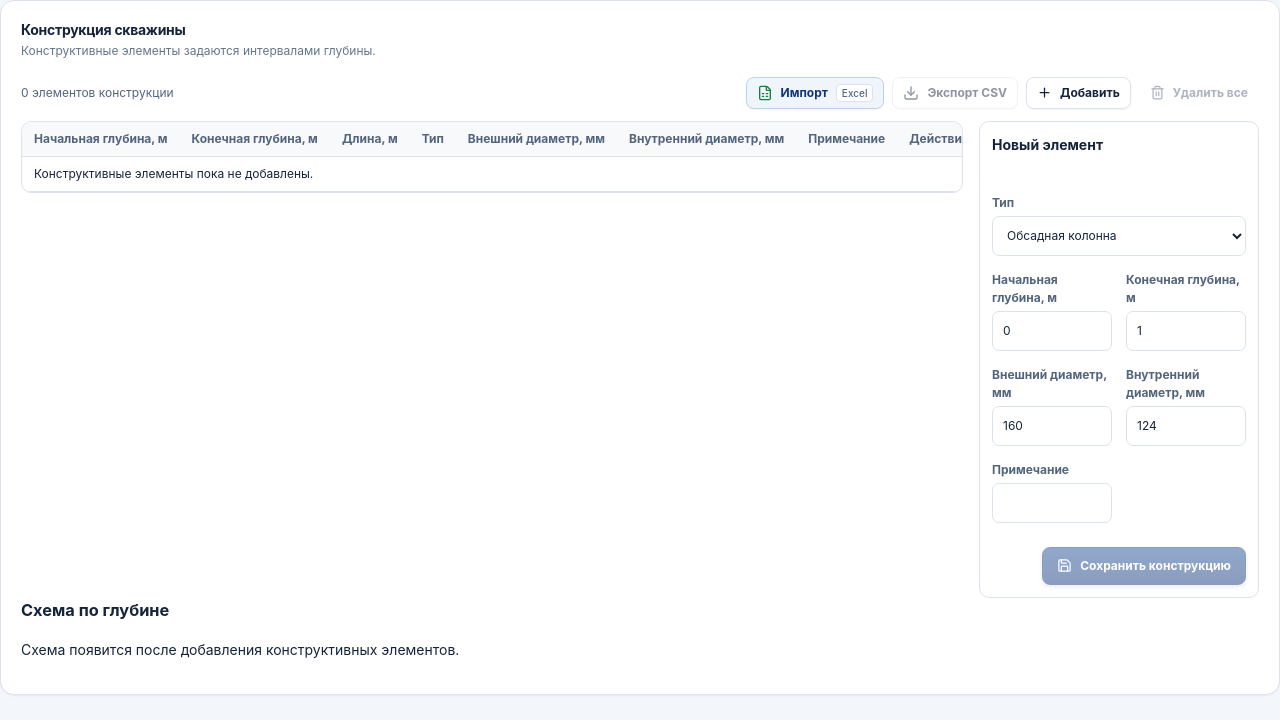
BGD well construction › blocks saving an invalid depth interval
This screenshot has width=1280, height=720.
Click the button "Добавить": (1078, 93) [1026,77,1131,109]
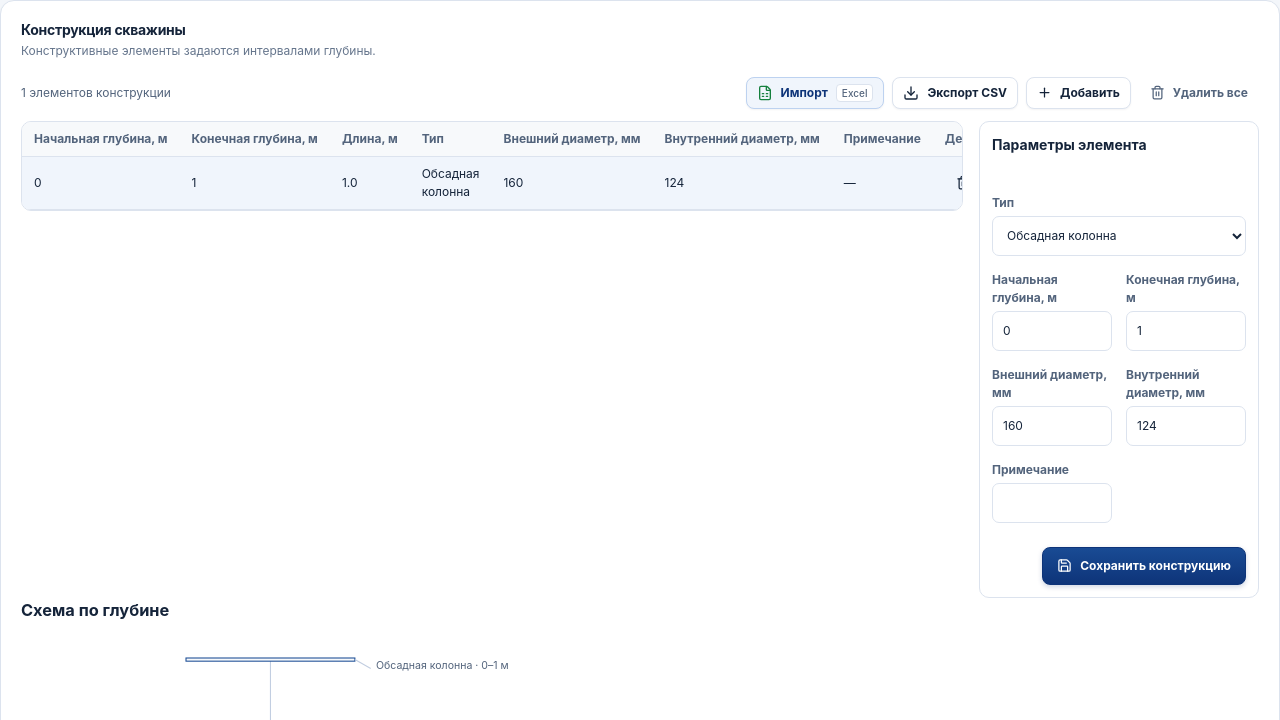
Replace the text in the number field labelled "Конечная глубина, м" with "0": (1186, 331) [1126,311,1246,351]
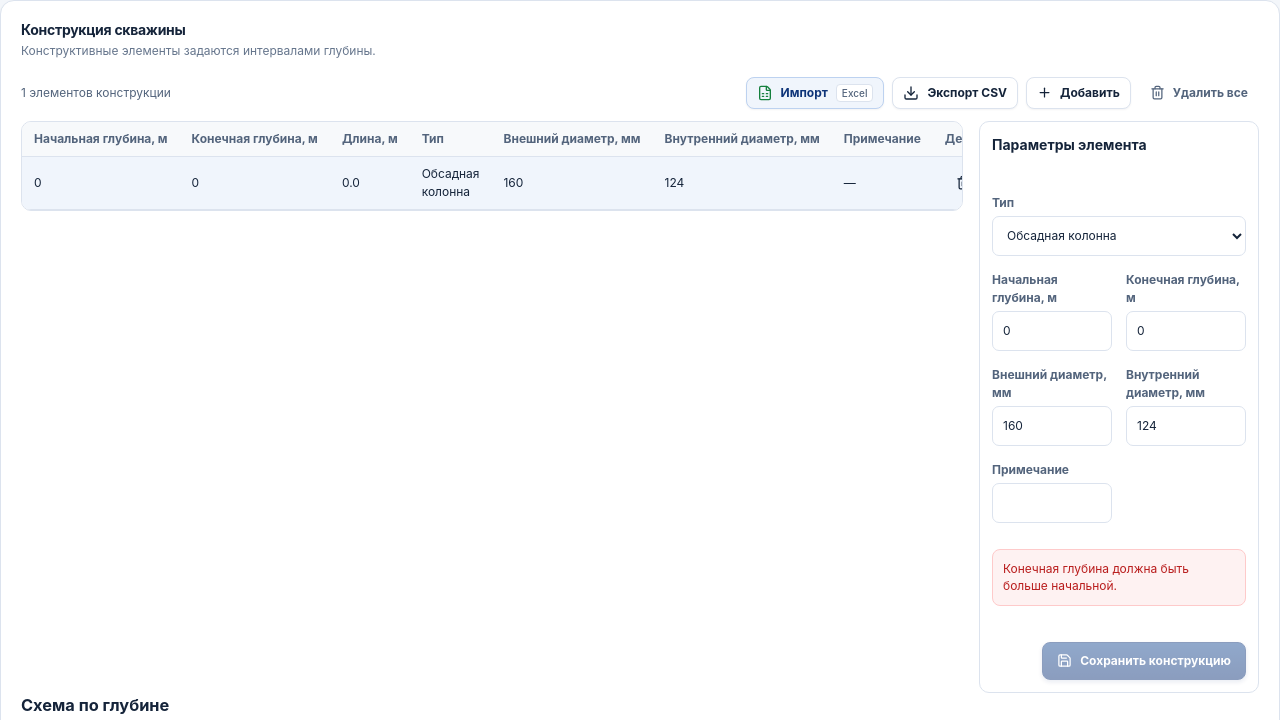
Result: the message reads "Конечная глубина должна быть больше начальной." at [1003,561,1189,593]
Result: the button "Сохранить конструкцию" is disabled at [1042,642,1246,680]
